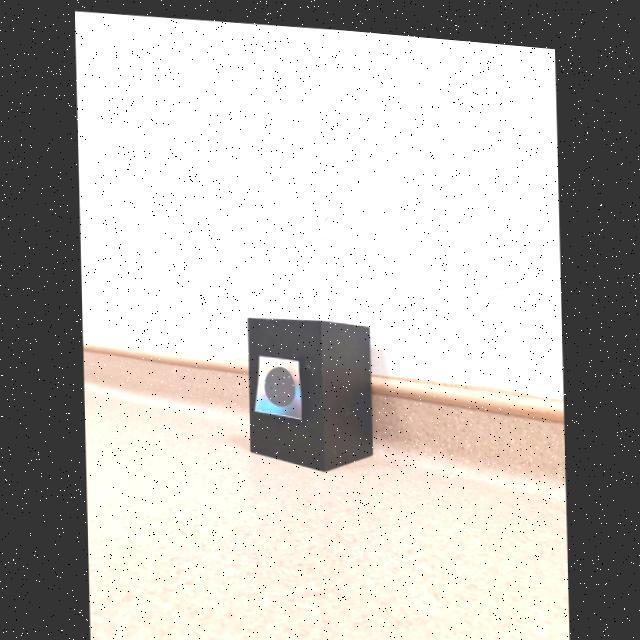CIRCLE: (263, 361, 293, 402)
